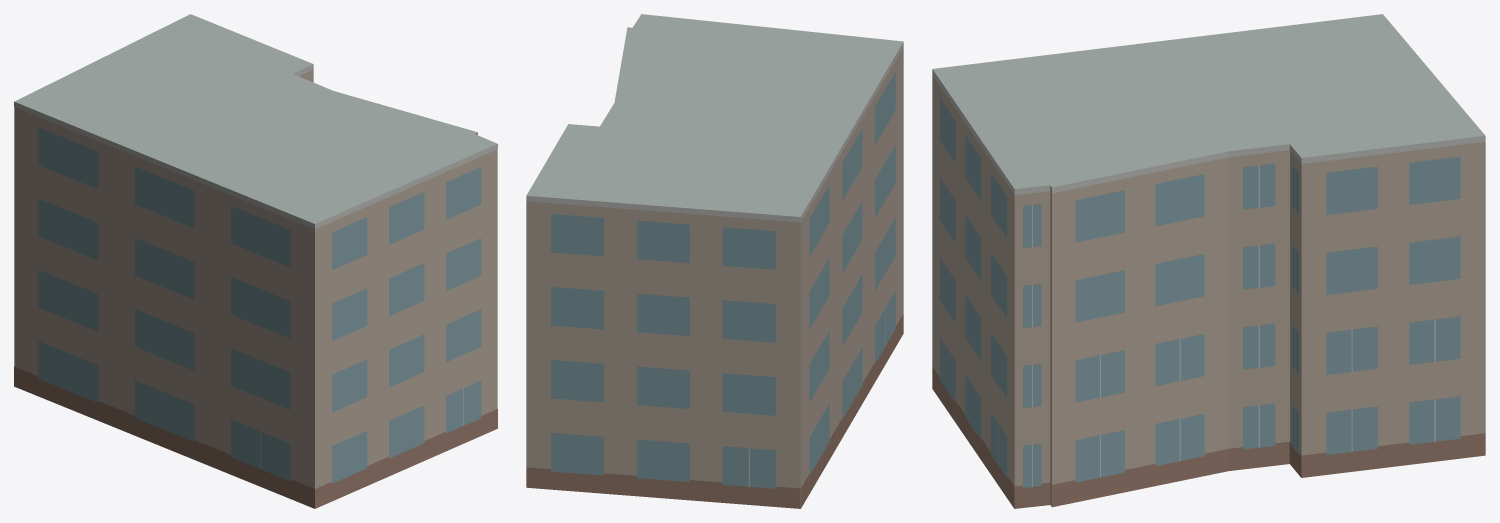
File: survey-upis-32534675.glb
3 views of the same model, side by side, from view 1: azimuth 30°, elevation 25°; view 2: azimuth 150°, elevation 25°; view 3: azimuth 270°, elevation 25° (orthographic). The views are drawn at different scales.
Parts seen in each view (by area): view 1: survey-upis-32534675.tmp; view 2: survey-upis-32534675.tmp; view 3: survey-upis-32534675.tmp.
Boxes of the visible parts, x1,y1,x2,y2 form: survey-upis-32534675.tmp: (14,14,497,508); survey-upis-32534675.tmp: (526,14,903,508); survey-upis-32534675.tmp: (932,14,1485,508).
Bounding box in the file's own units: 15.27 × 13 × 20.39.
